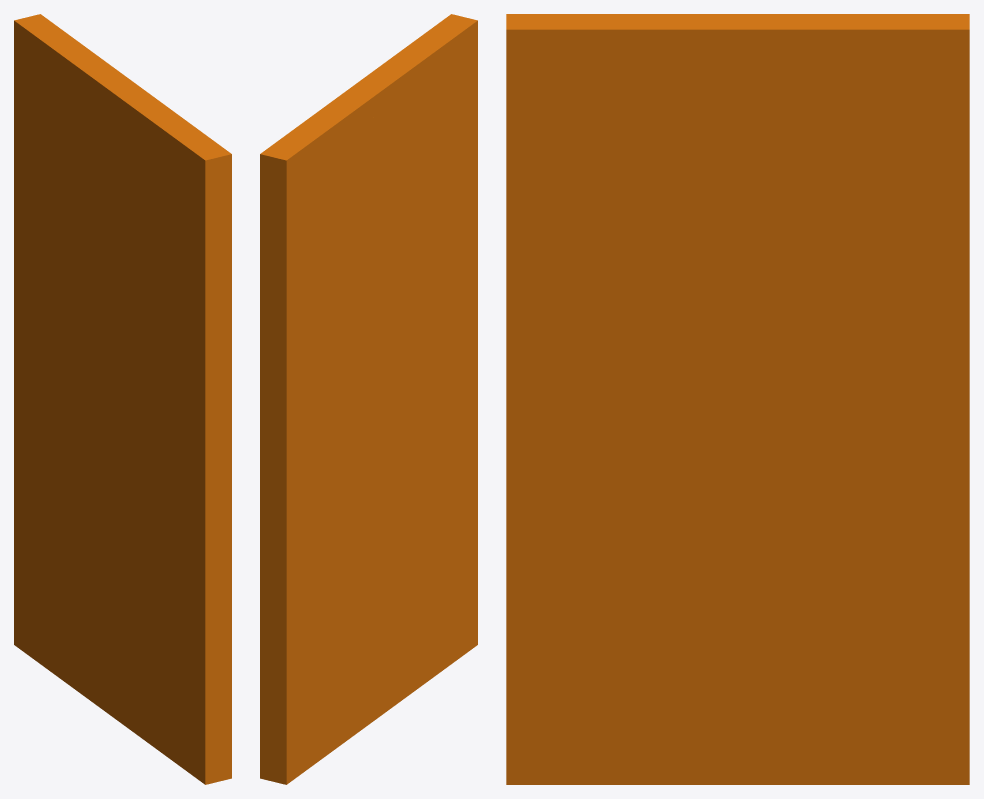
File: door2.fbx
3 views of the same model, side by side, from view 1: azimuth 30°, elevation 25°; view 2: azimuth 150°, elevation 25°; view 3: azimuth 270°, elevation 25° (orthographic). The views are drawn at different scales.
Visible parts, largest first — view 1: Cube.002, Cube; view 2: Cube.002, Cube; view 3: Cube.002, Cube.
Boxes of the visible parts, left/top/right/bottom form: Cube.002: left=21, top=47, right=197, bottom=757; Cube: left=14, top=14, right=231, bottom=784; Cube.002: left=294, top=47, right=470, bottom=757; Cube: left=260, top=14, right=477, bottom=784; Cube.002: left=525, top=54, right=950, bottom=759; Cube: left=506, top=14, right=969, bottom=784.
Bounding box in the file's own units: 40 × 900 × 500.
